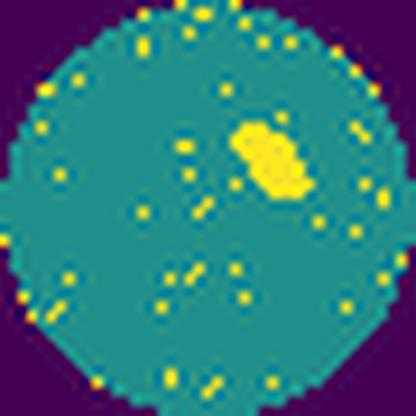Edge-Loc: (229, 117, 314, 199)
